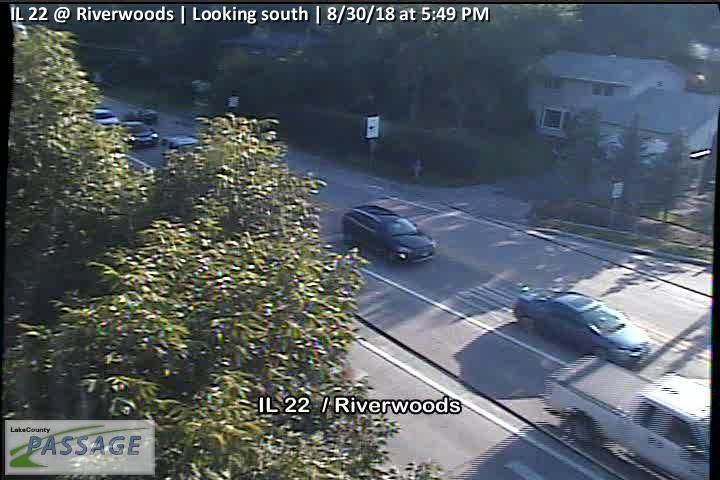SUV: (341, 205, 435, 264)
Sedan: (512, 290, 652, 371), (120, 121, 160, 151), (93, 109, 119, 127)
Truck: (553, 363, 710, 480)
